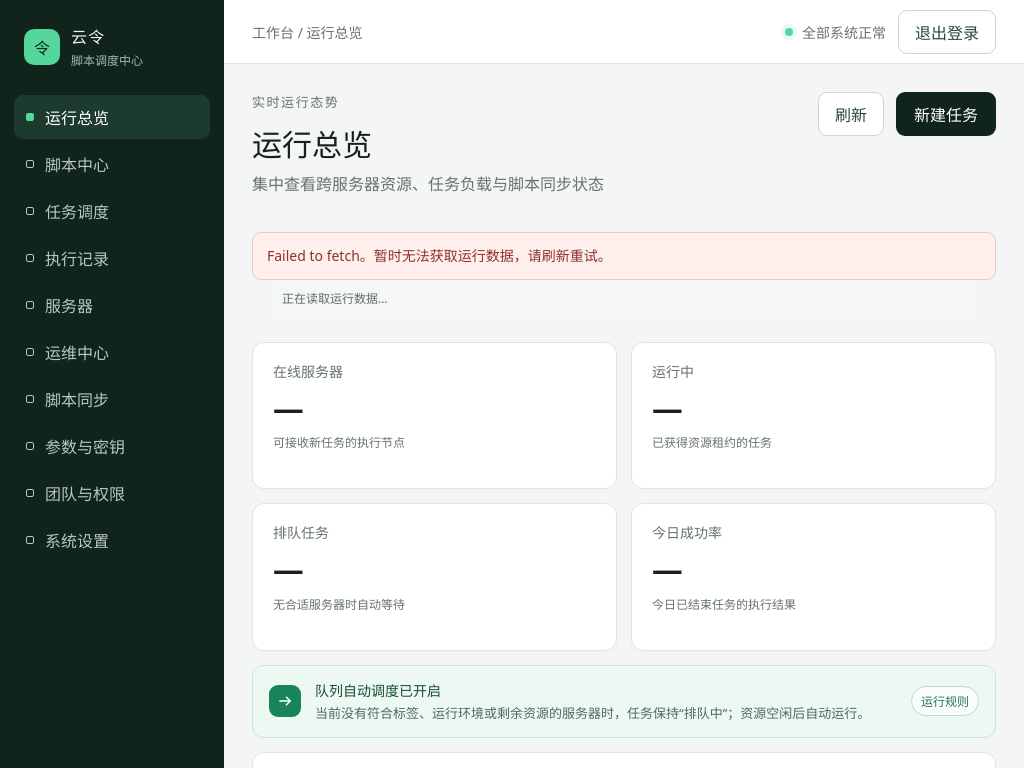
Test: 云令应用壳 › 退出失败时保留控制台并显示中文错误
Click the button "退出登录" at (947, 32), box [898, 10, 996, 54]
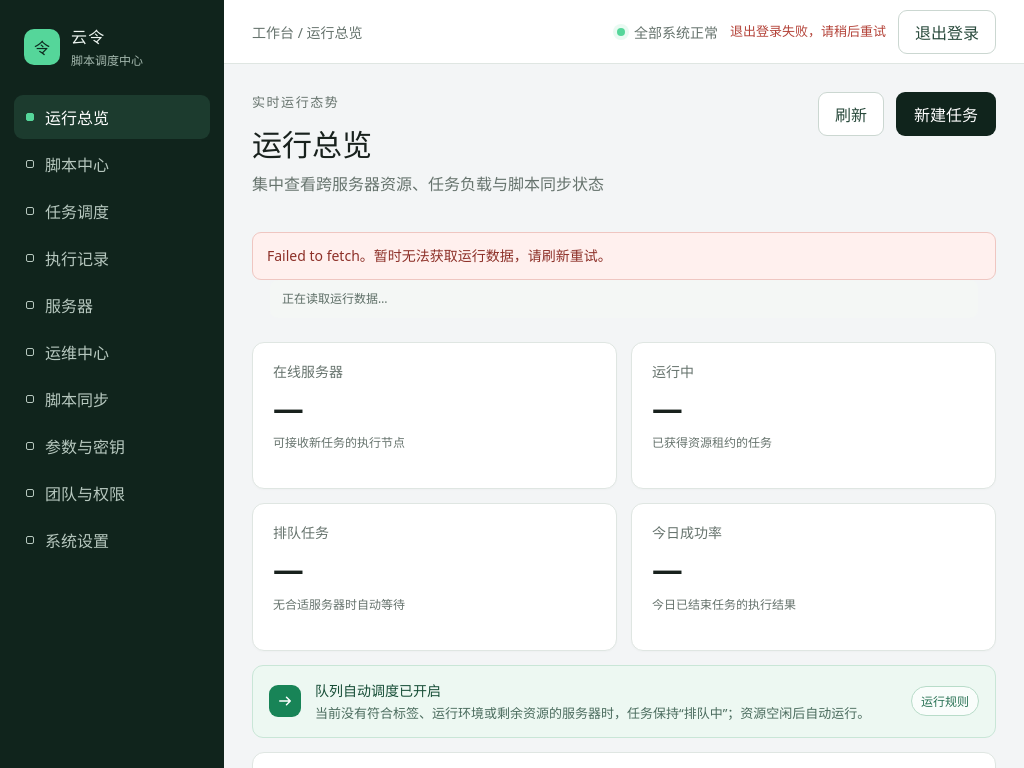
Check: the heading "运行总览" is shown, box [252, 124, 372, 165]
Check: the message "退出登录失败" reads "退出登录失败，请稍后重试", box [730, 22, 886, 40]
